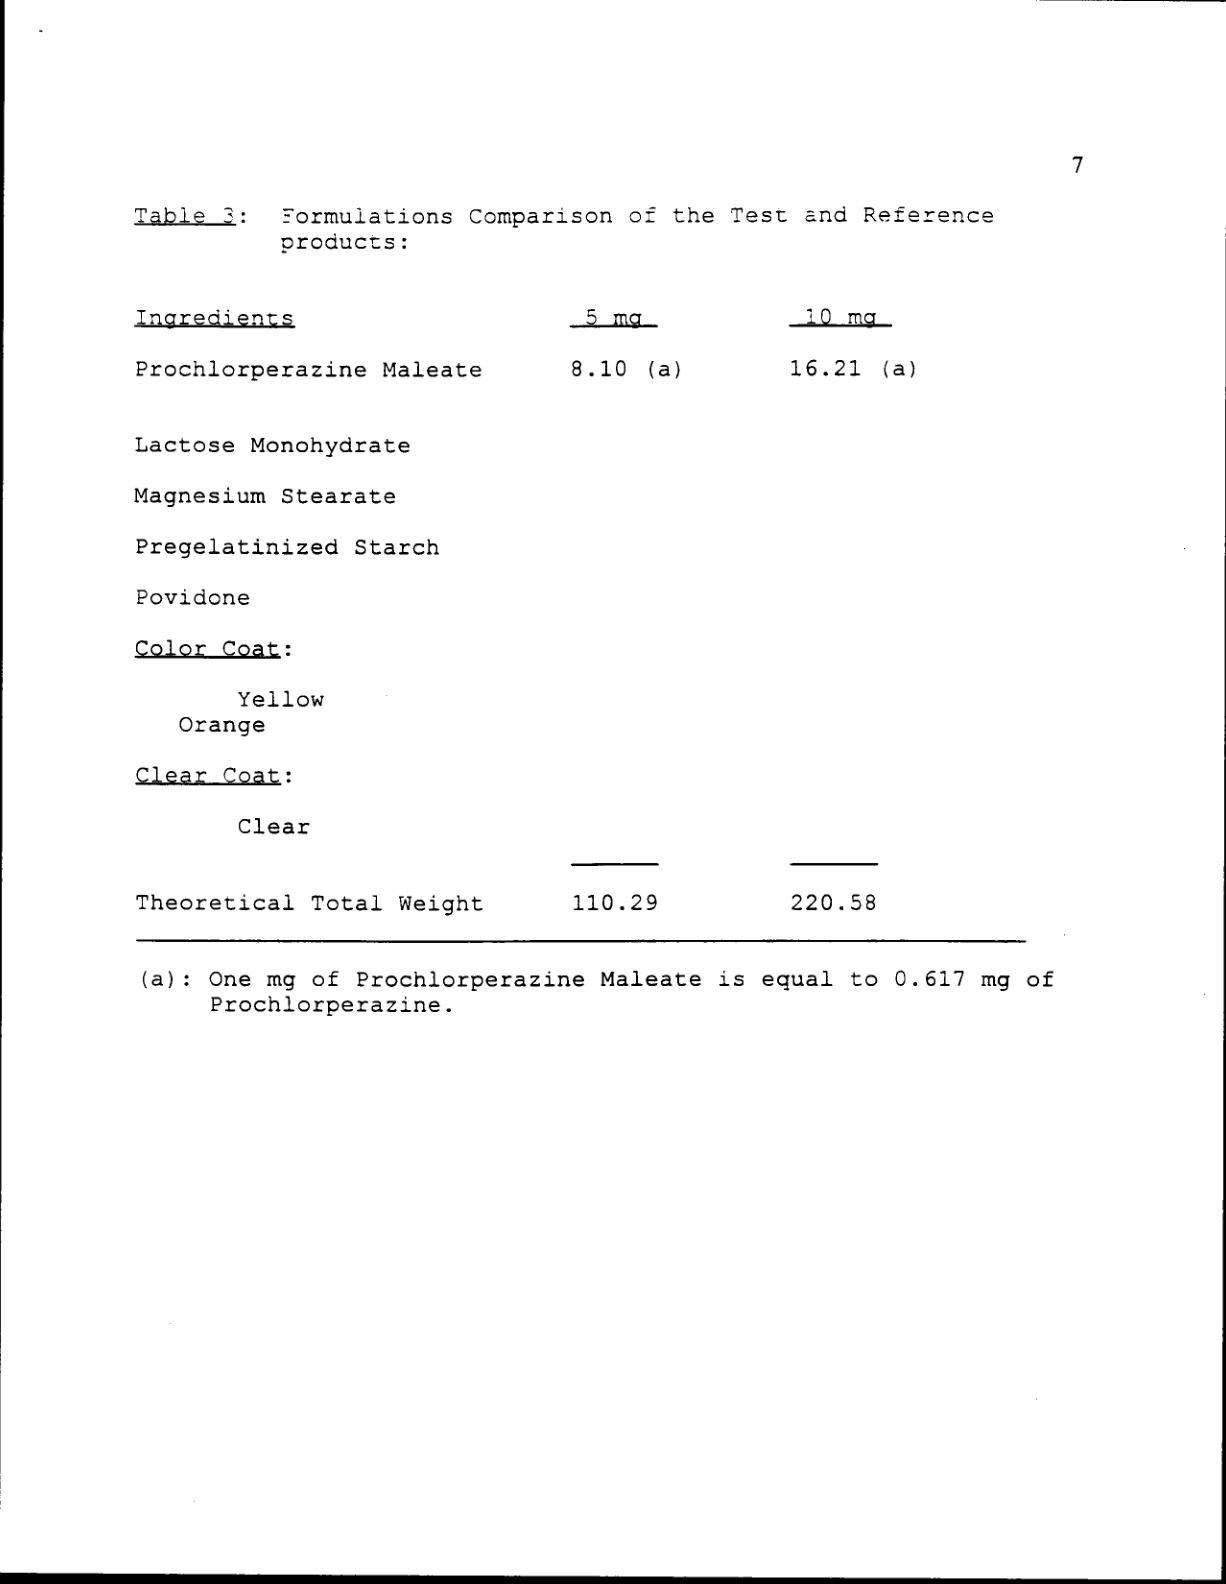nolines: (130, 303, 919, 383)
